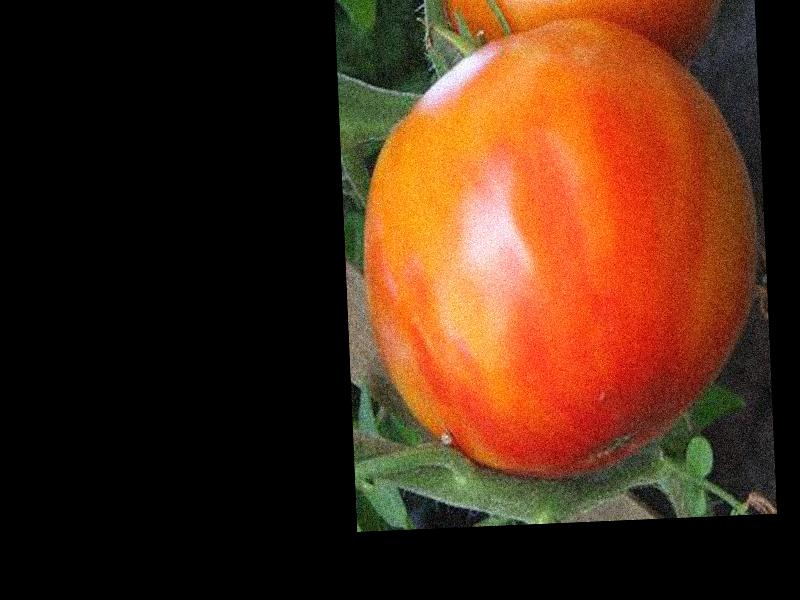Tomato: (354, 16, 766, 483)
